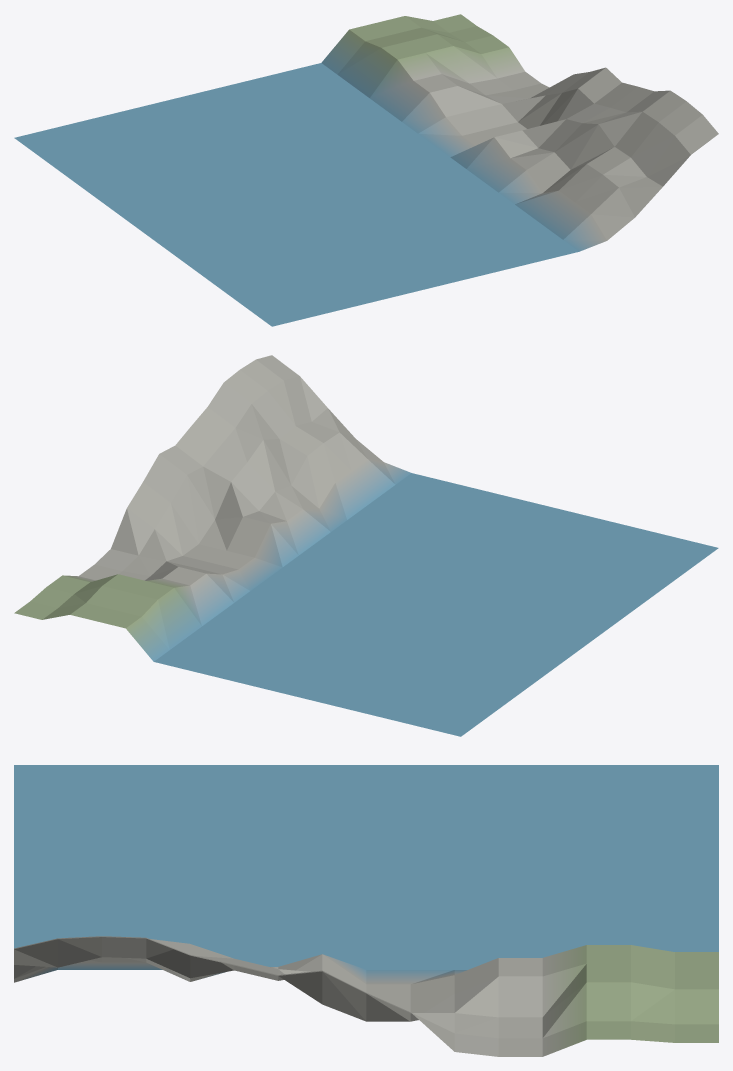
The picture shows the model from 3 angles, top to bottom: view 1: azimuth 30°, elevation 25°; view 2: azimuth 150°, elevation 25°; view 3: azimuth 270°, elevation 25°; orthographic projection. The views are drawn at different scales.
Size of the model in its own units: 32 by 6.35 by 32.
